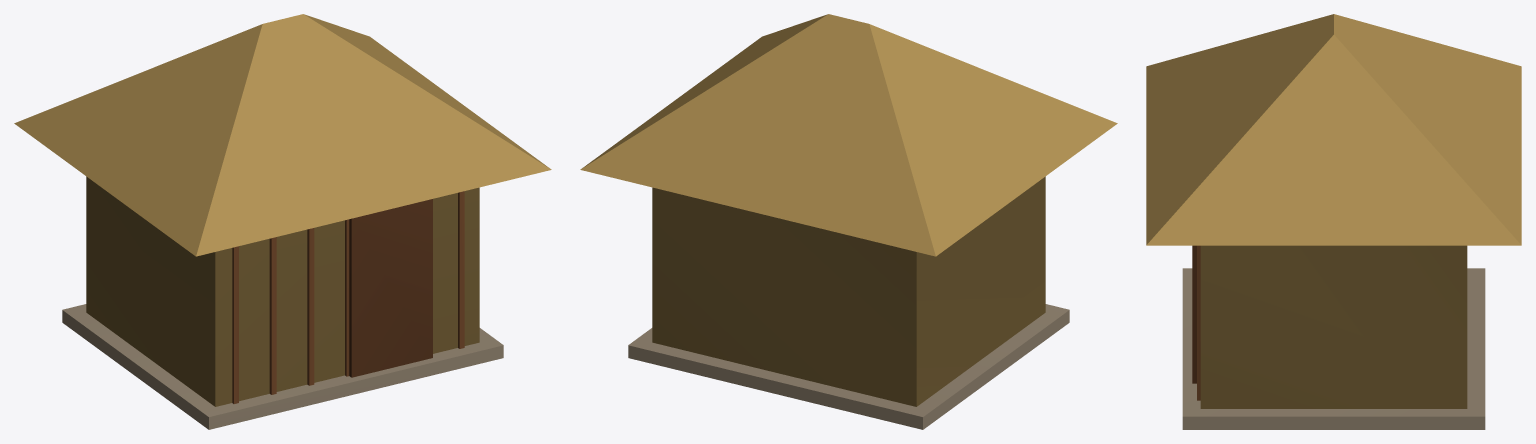
File: nha-tranh.glb
The picture shows the model from 3 angles, left to right: view 1: azimuth 30°, elevation 25°; view 2: azimuth 150°, elevation 25°; view 3: azimuth 270°, elevation 25°; orthographic projection. The views are drawn at different scales.
Parts seen in each view (by area): view 1: nha-tranh; view 2: nha-tranh; view 3: nha-tranh.
Part boxes in pixels (x1,y1,x2,y2): nha-tranh: (14, 14, 551, 429); nha-tranh: (580, 14, 1117, 429); nha-tranh: (1146, 14, 1521, 429).
Size of the model in its own units: 3.5 by 3.02 by 3.1.
